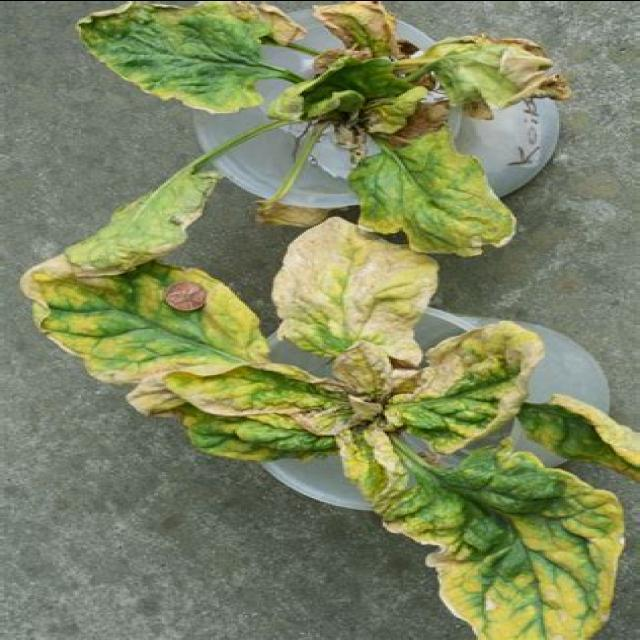Viral: (21, 233, 622, 631)
